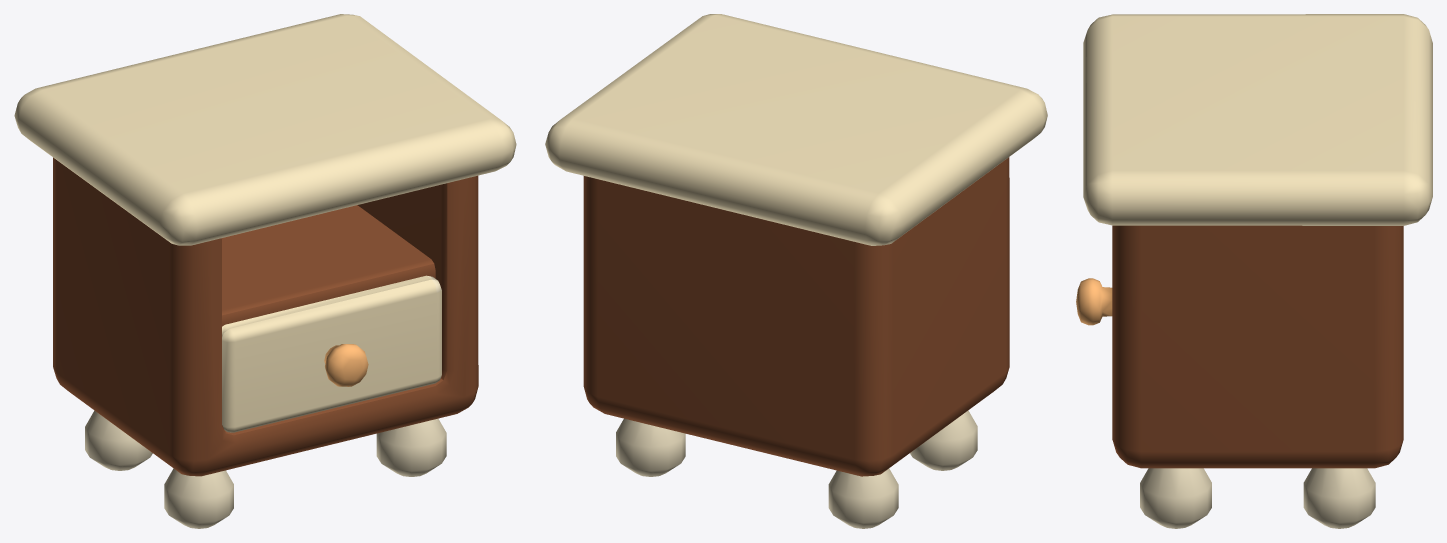
Rendered from criado_natal_gaveta_nicho_pacote.glb.
3 renders of one model, left to right at view 1: azimuth 30°, elevation 25°; view 2: azimuth 150°, elevation 25°; view 3: azimuth 270°, elevation 25°, orthographic. The views are drawn at different scales.
Parts seen in each view (by area): view 1: criado_natal_gaveta_nicho_pacote, gaveta_1; view 2: criado_natal_gaveta_nicho_pacote; view 3: criado_natal_gaveta_nicho_pacote, gaveta_1.
Boxes of the visible parts, bbox=[...] form: criado_natal_gaveta_nicho_pacote: bbox=[14, 14, 516, 528]; gaveta_1: bbox=[222, 275, 441, 432]; criado_natal_gaveta_nicho_pacote: bbox=[545, 14, 1047, 528]; criado_natal_gaveta_nicho_pacote: bbox=[1083, 14, 1432, 528]; gaveta_1: bbox=[1076, 278, 1112, 325].
Bounding box in the file's own units: 0.58 × 0.5737 × 0.4898.
1 material, 1 textured.
